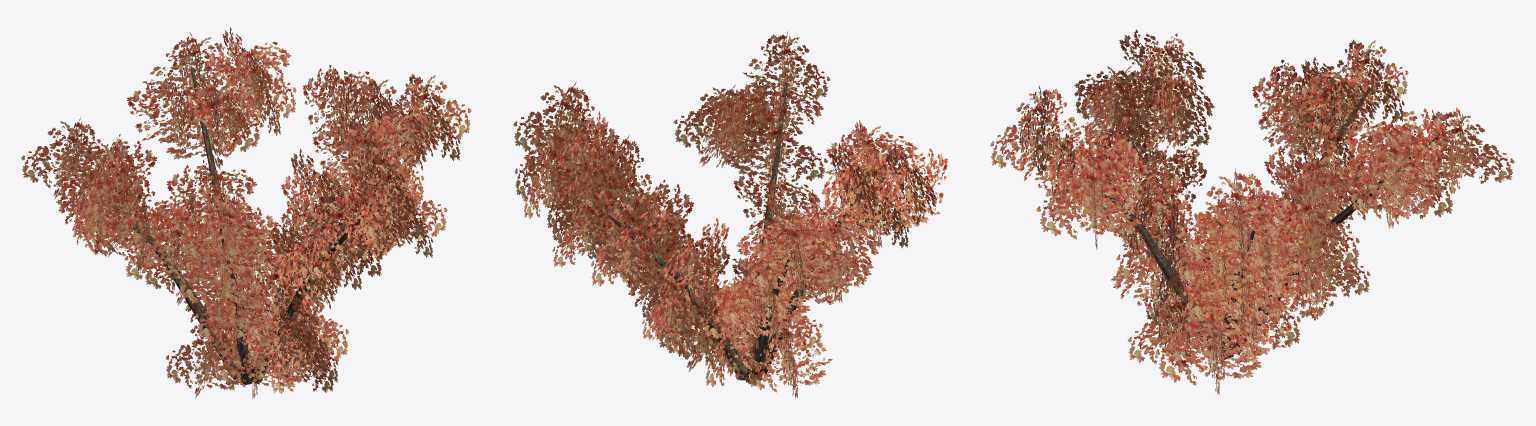
File: bush_3d_01_copper_lod1.glb
3 renders of one model, left to right at view 1: azimuth 30°, elevation 25°; view 2: azimuth 150°, elevation 25°; view 3: azimuth 270°, elevation 25°, orthographic. The views are drawn at different scales.
Parts seen in each view (by area): view 1: foliage_cards, wood_geometry; view 2: foliage_cards, wood_geometry; view 3: foliage_cards, wood_geometry.
Boxes of the visible parts, x1,y1,x2,y2 form: foliage_cards: [21, 27, 471, 398]; wood_geometry: [73, 67, 430, 384]; foliage_cards: [513, 31, 947, 398]; wood_geometry: [545, 82, 889, 380]; foliage_cards: [990, 29, 1514, 395]; wood_geometry: [1051, 87, 1440, 359].
Size of the model in its own units: 2 by 1.29 by 2.12.
Materials: 2 (2 with a texture image).
